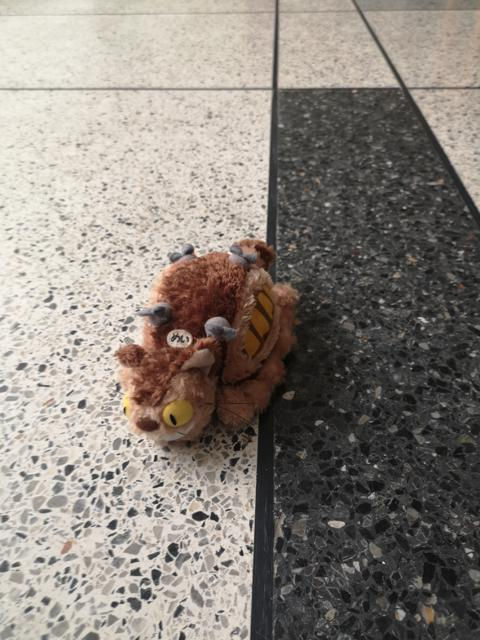nekobus: (110, 230, 303, 456)
